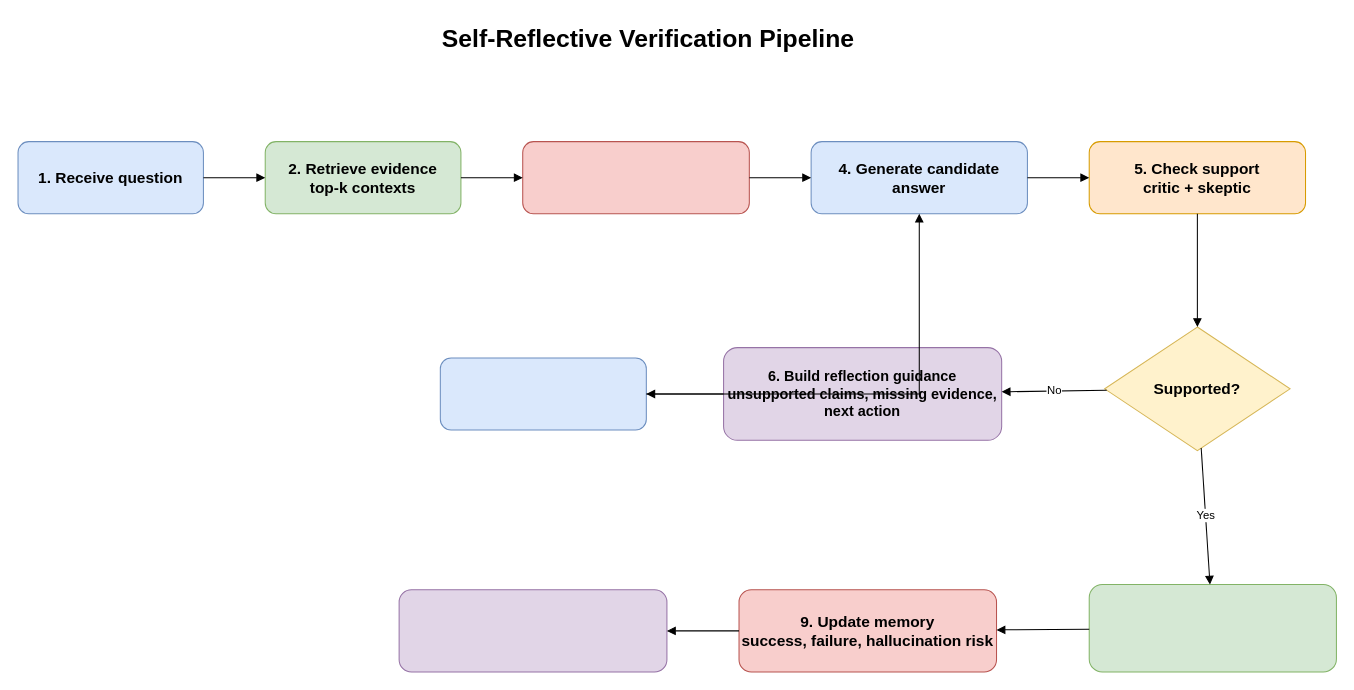
The diagram is 1354 pixels wide and 690 high, and some of its shapes have lost their labels. Here are the shapes that lost their labels. From the top down, the centre of each, then its label:
At pixel 635 177: "3. Retrieve reliable memory temporal success scoring".
At pixel 542 393: "7. Retry generation max 3 attempts".
At pixel 532 630: "10. Evaluation logging hallucination rate, F1, propagation indicators".
At pixel 1212 627: "8. Produce final answer grounded answer or safe abstention".
